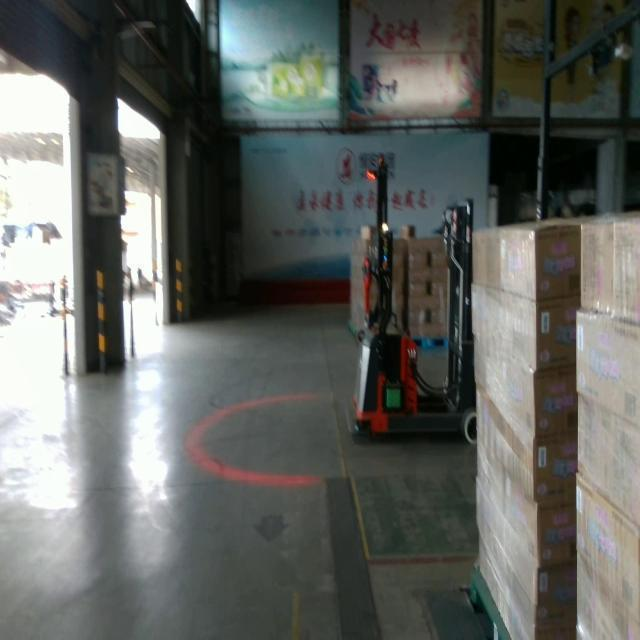forklift: (344, 149, 480, 449)
